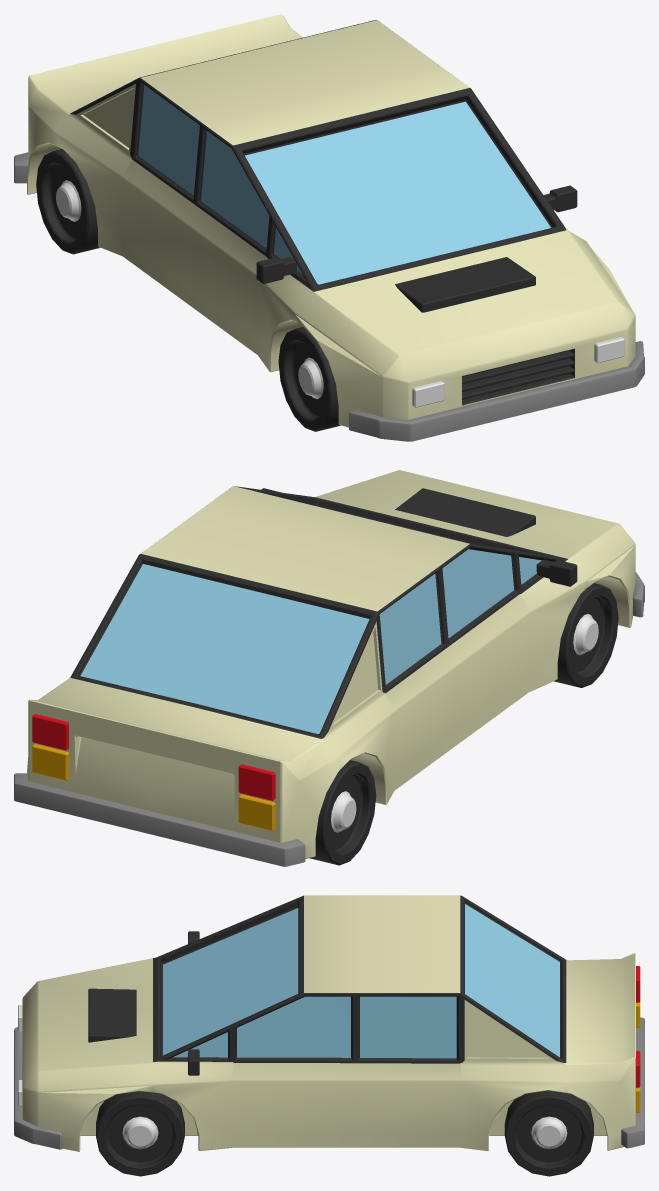
File: car.fbx
3 views of the same model, one above another, from view 1: azimuth 30°, elevation 25°; view 2: azimuth 150°, elevation 25°; view 3: azimuth 270°, elevation 25° (orthographic). The views are drawn at different scales.
Visible parts, largest first — view 1: carBody, carWindows, carFrontBumper, carRearWheels, carFrontWheels, carHood, carMirrors; view 2: carBody, carWindows, carRearBumper, carFrontWheels, carRearWheels, carHood, carMirrors; view 3: carBody, carWindows, carRearWheels, carFrontWheels, carHood, carFrontBumper, carRearBumper, carMirrors.
Part boxes in pixels (x1,y1,x2,y2): carBody: [27, 14, 635, 427]; carWindows: [138, 85, 550, 284]; carFrontBumper: [349, 341, 644, 441]; carRearWheels: [36, 149, 100, 254]; carFrontWheels: [278, 327, 340, 431]; carHood: [395, 257, 535, 312]; carMirrors: [256, 185, 577, 283]; carBody: [27, 470, 635, 858]; carWindows: [80, 549, 541, 733]; carRearBumper: [14, 773, 305, 866]; carFrontWheels: [554, 583, 618, 687]; carRearWheels: [309, 760, 376, 865]; carHood: [395, 488, 535, 536]; carMirrors: [261, 488, 577, 586]; carBody: [18, 895, 640, 1151]; carWindows: [163, 904, 559, 1058]; carRearWheels: [504, 1090, 593, 1176]; carFrontWheels: [96, 1091, 184, 1176]; carHood: [88, 988, 136, 1042]; carFrontBumper: [14, 1027, 62, 1149]; carRearBumper: [621, 1017, 644, 1148]; carMirrors: [188, 931, 199, 1075].
Size of the model in its own units: 1.17 by 0.7311 by 2.41.
